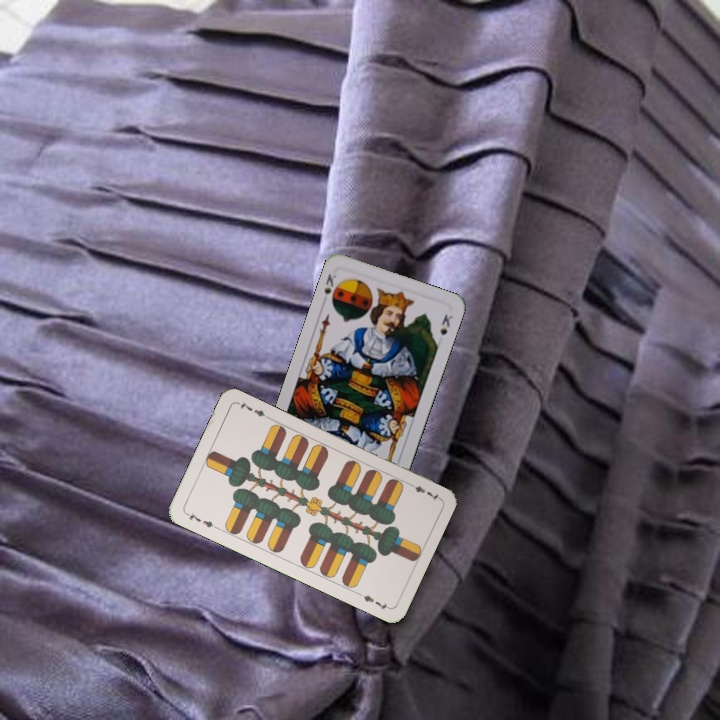E7: (404, 479, 442, 504), (182, 509, 220, 532)
SK: (320, 268, 339, 297)
